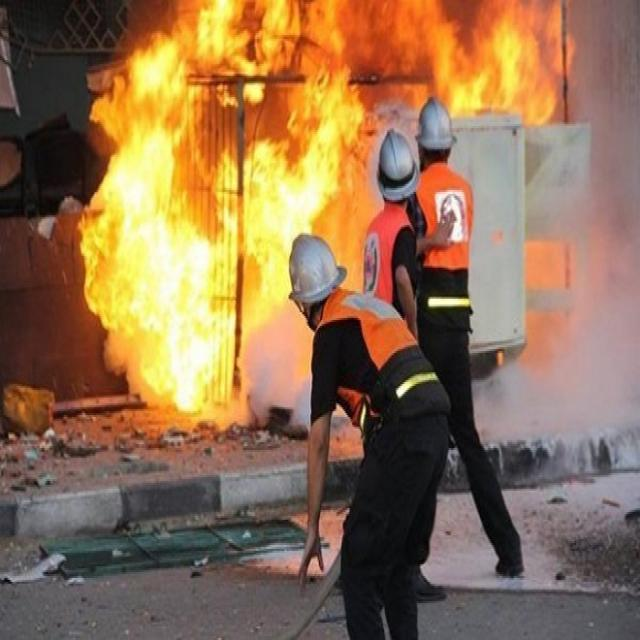Fire: (78, 0, 239, 413), (216, 0, 365, 229), (366, 0, 574, 127), (218, 232, 291, 308), (330, 230, 366, 294), (218, 310, 239, 408)
Smoke: (474, 306, 640, 449), (561, 126, 640, 307), (570, 0, 630, 122), (242, 310, 308, 418), (634, 240, 638, 242)
